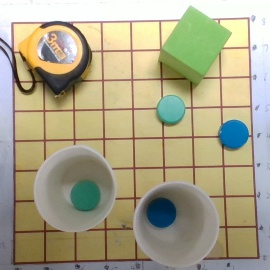blue: (219, 119, 249, 150)
cup_blue: (132, 178, 219, 266)
cup_green: (33, 141, 117, 232)
green: (156, 94, 185, 124)
